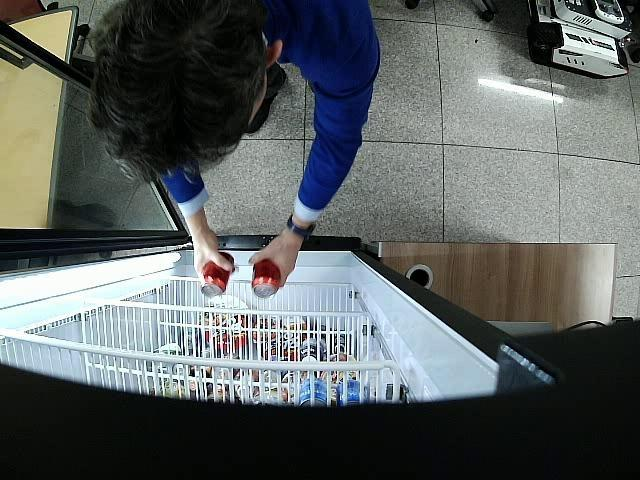11_cocaColaZero: (202, 252, 235, 298), (252, 258, 282, 298)
